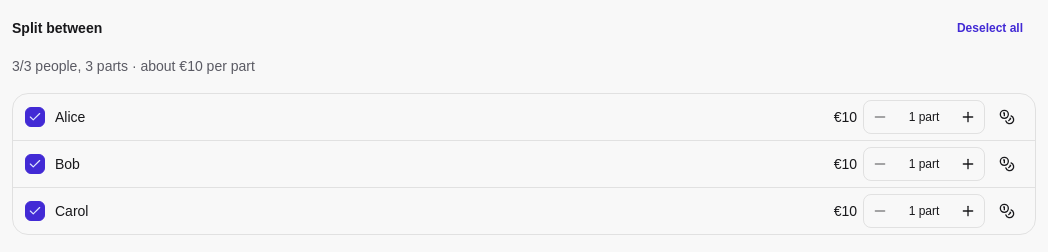
Test case: ExpenseSplitField › sets an amount for someone instead of parts, and says when it doesn't fit
The image size is (1048, 252).
Click the button named "Set an amount for Bob". click: click(1007, 164)
box: [991,148,1023,180]
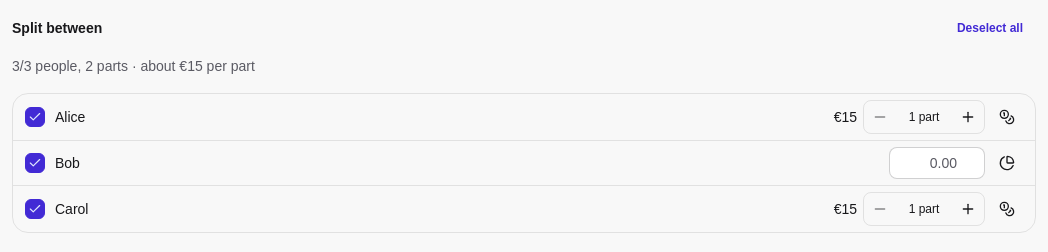
Type "40" into the number field named "Amount for Bob". click: (937, 163)
box: [889,147,985,179]
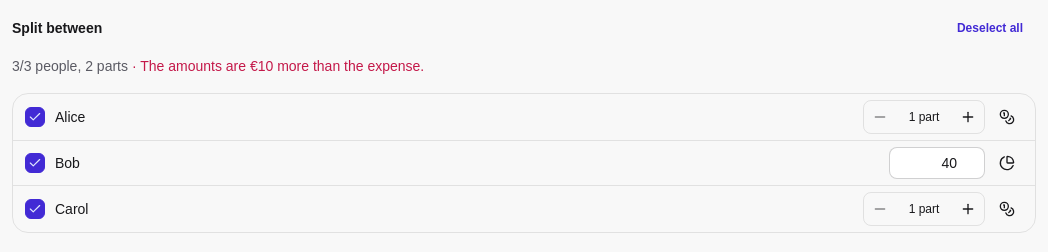
Expected: the text "· The amounts are €10 more than the expense." is shown, [132,58,424,74]
